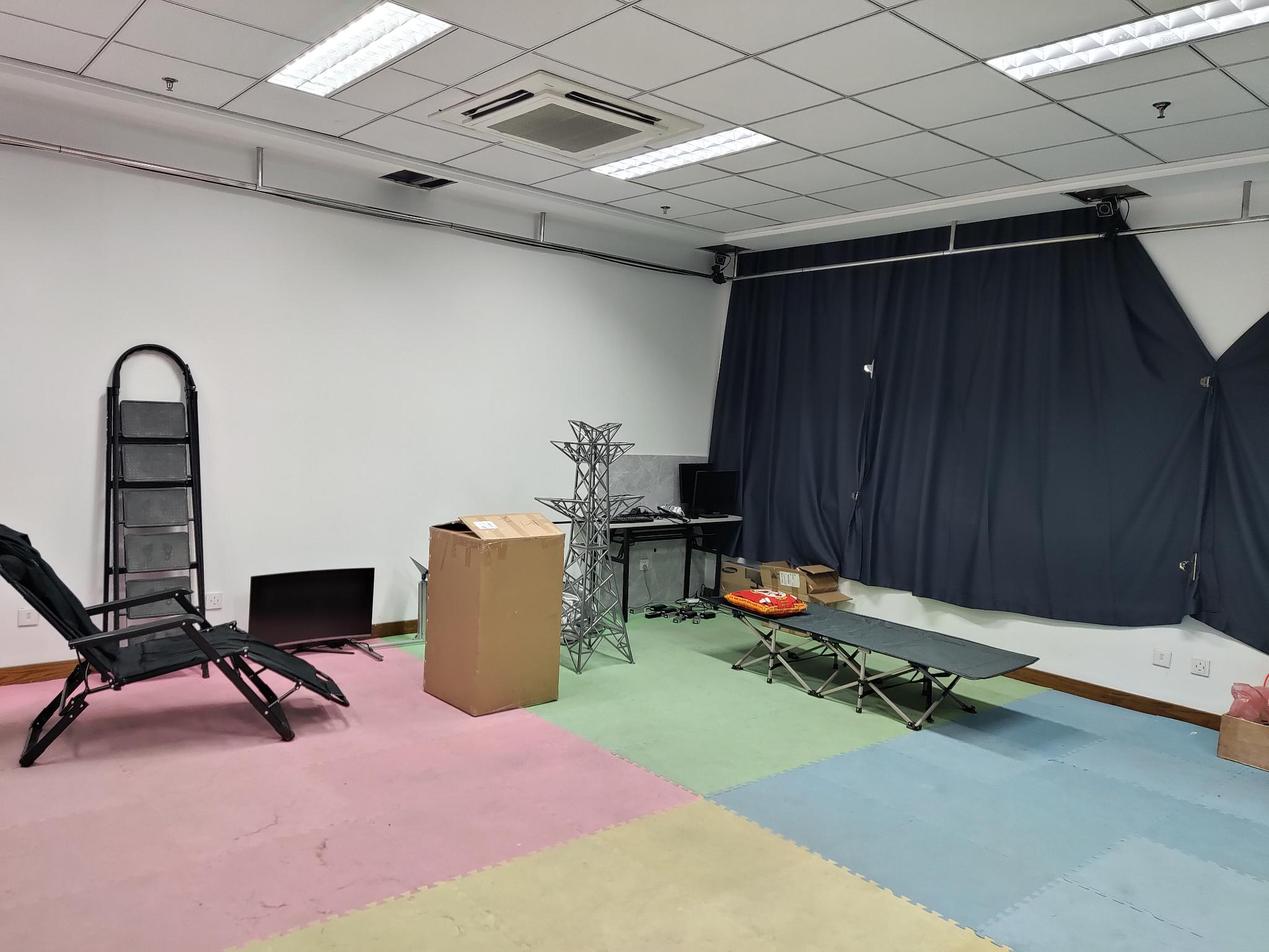tower: (563, 419, 635, 669)
